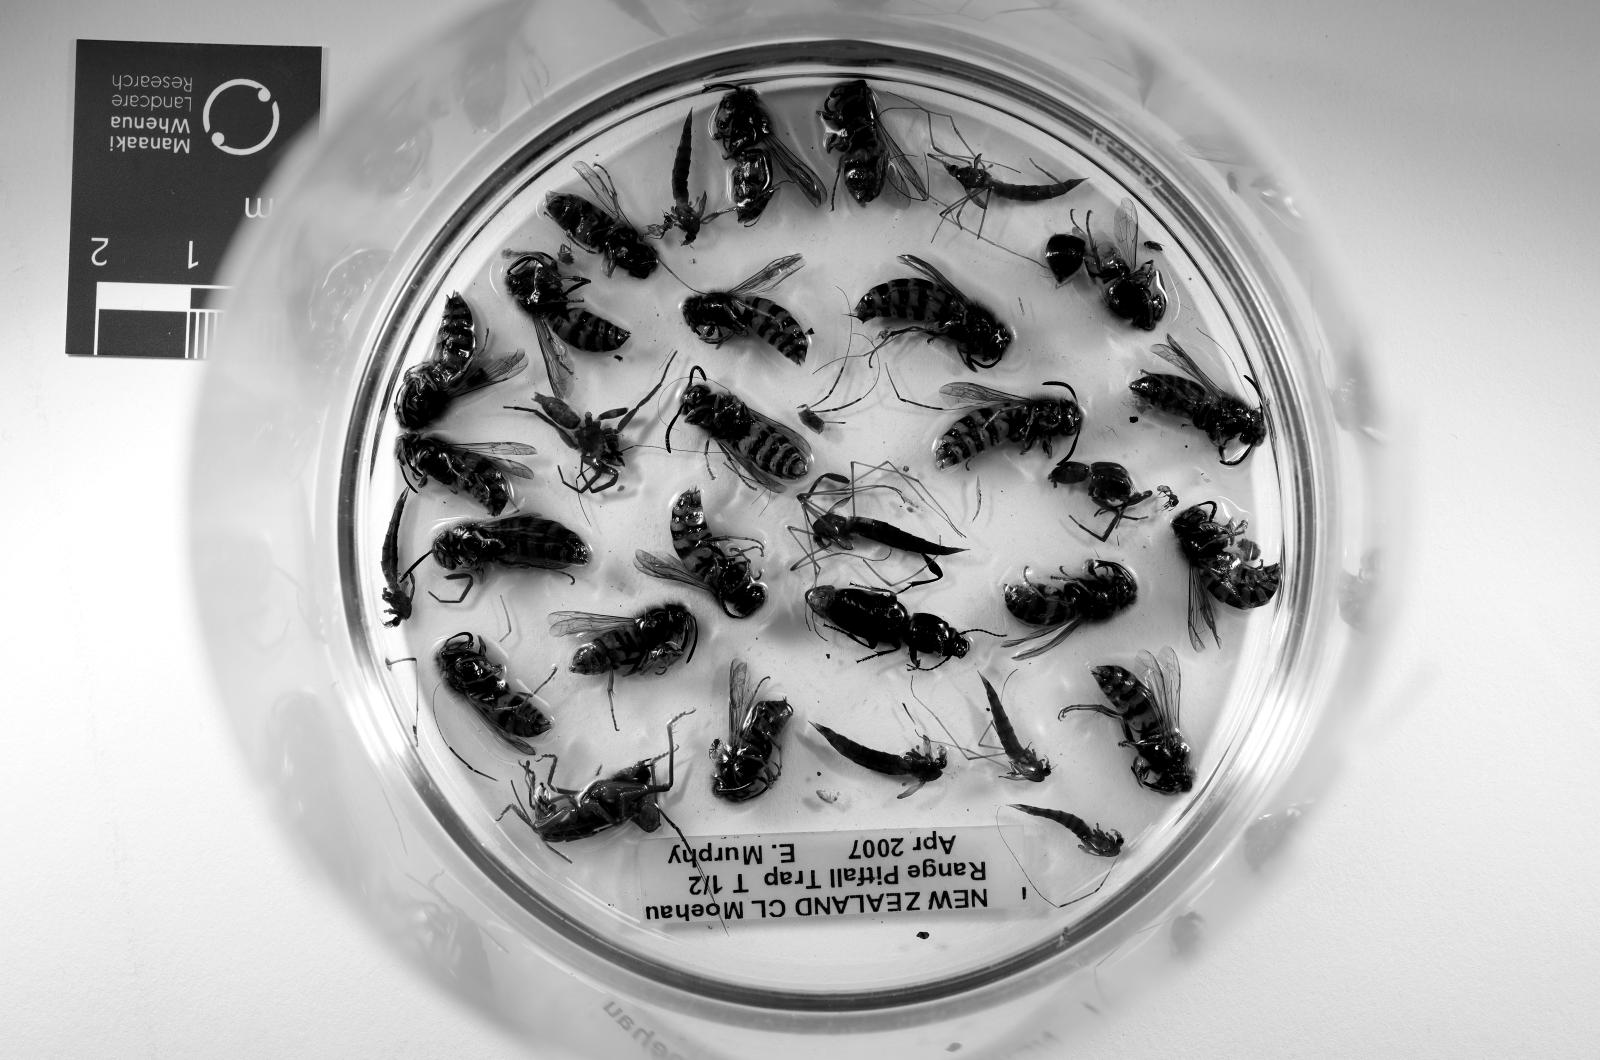araneae: (528, 370, 666, 494), (1050, 460, 1153, 540)
carabidae: (806, 584, 988, 671)
collembola: (816, 789, 838, 804)
diptera: (1144, 239, 1167, 254)
formicidae: (1156, 484, 1178, 509), (709, 737, 722, 763)
opiliones: (797, 357, 878, 435)
orthoptera: (503, 714, 684, 851)
tipulidae: (922, 109, 1084, 257), (791, 460, 966, 590), (950, 677, 1053, 783), (647, 115, 725, 245), (812, 724, 947, 798), (1009, 804, 1125, 857), (381, 491, 416, 627)
vespidae: (1059, 646, 1194, 795), (547, 602, 697, 730), (660, 366, 809, 494), (853, 255, 1012, 373), (394, 292, 528, 432), (506, 252, 631, 401), (1128, 335, 1266, 466), (634, 488, 766, 618), (1172, 500, 1281, 652), (709, 87, 825, 227), (434, 634, 553, 755), (681, 255, 812, 363), (819, 81, 928, 208), (1003, 559, 1138, 658), (547, 161, 659, 279), (934, 381, 1084, 469), (712, 658, 794, 801), (394, 435, 534, 516), (1084, 199, 1166, 332), (431, 516, 591, 581), (1003, 584, 1050, 615)
